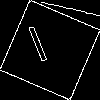I: (25, 25, 55, 72)
